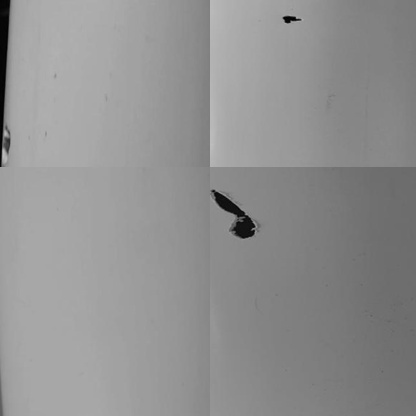kongdong: (211, 188, 260, 242), (1, 125, 14, 165), (281, 12, 303, 26)
